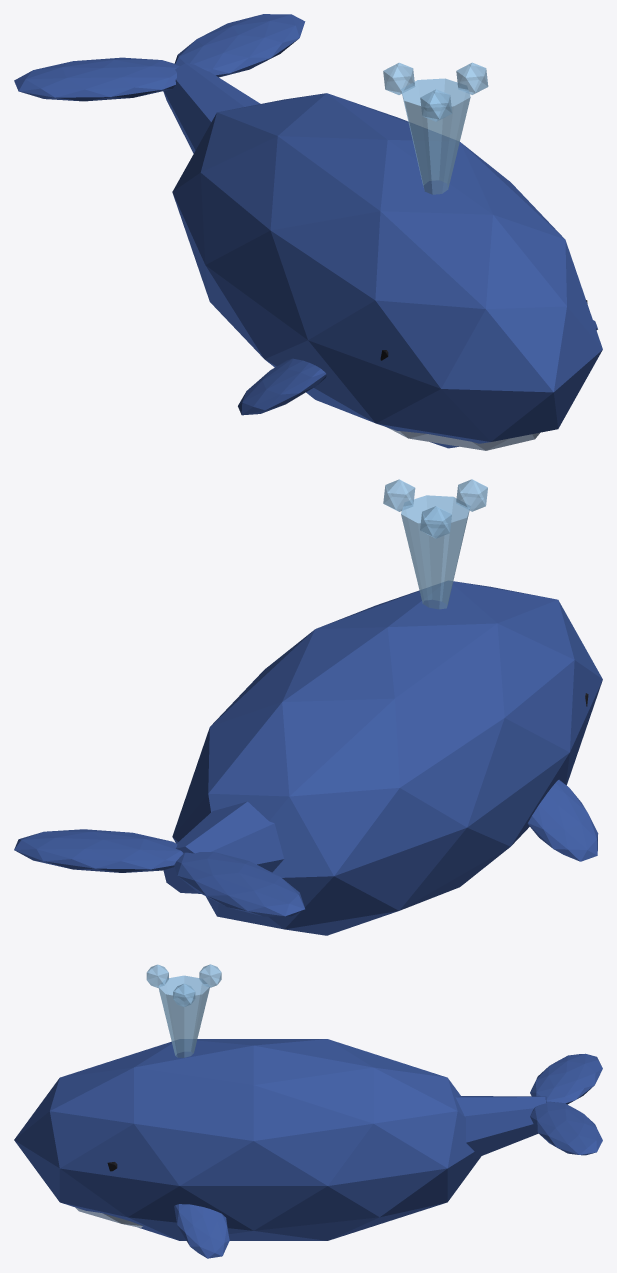
File: Whale.fbx
The picture shows the model from 3 angles, top to bottom: view 1: azimuth 30°, elevation 25°; view 2: azimuth 150°, elevation 25°; view 3: azimuth 270°, elevation 25°; orthographic projection. The views are drawn at different scales.
Parts seen in each view (by area): view 1: Skin, Spout, Belly; view 2: Skin, Spout; view 3: Skin, Spout.
Part boxes in pixels (x1,y1,x2,y2): Skin: (14,14,602,448); Spout: (383,62,488,194); Belly: (387,427,539,450); Skin: (14,581,602,935); Spout: (383,479,487,609); Skin: (14,1039,602,1258); Spout: (146,964,221,1057).
Size of the model in its own units: 3.41 by 3.35 by 6.78.
